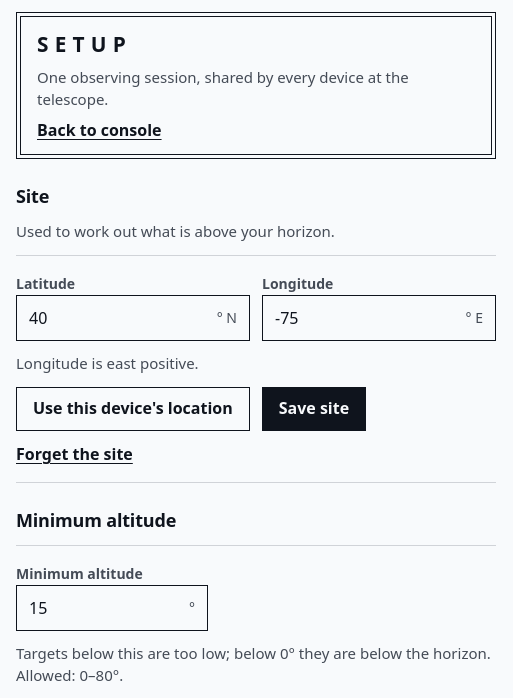
Setup › refuses minimum altitude  with the 0–80° range
Clear the field labelled "Minimum altitude" at (103, 608), box [17,586,189,630]
(page scrolled)
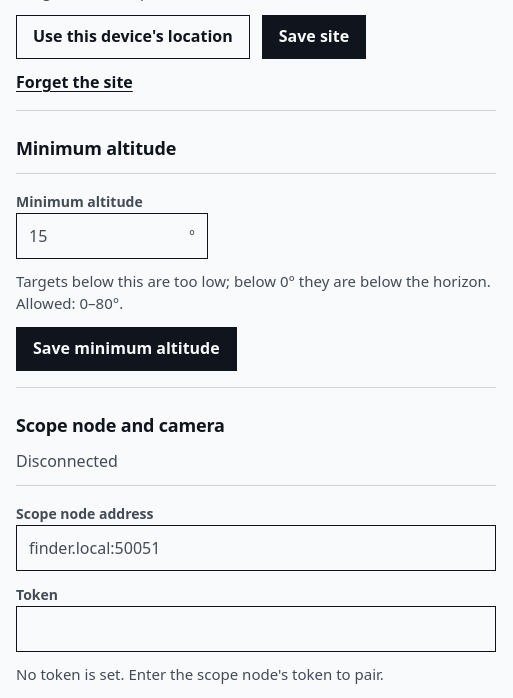
Click the button "Save minimum altitude".
click(126, 349)  # box [16,327,237,371]
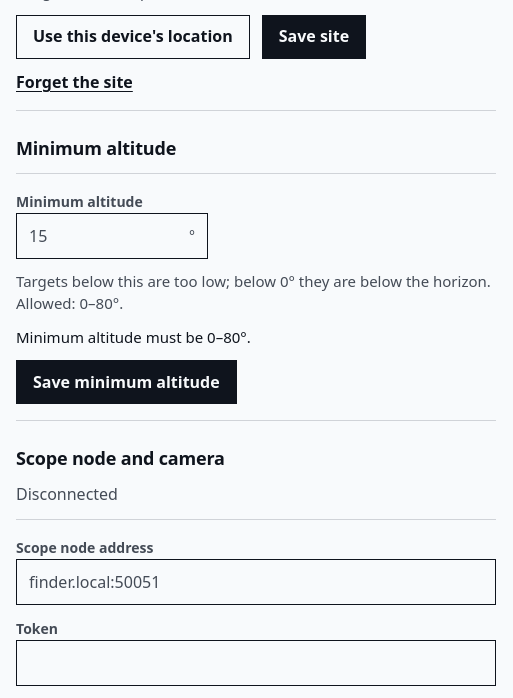
Expected: the message shows "0–80°", [16,327,251,347]
